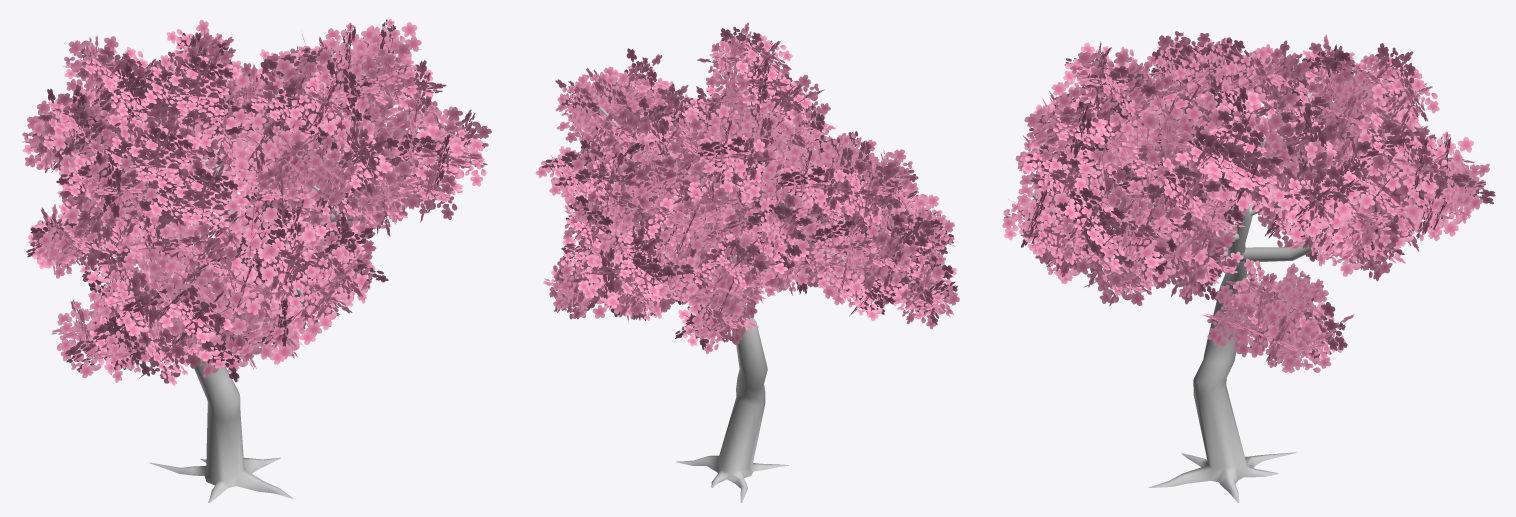
The model's file is TreeSakura.fbx.
3 views of the same model, side by side, from view 1: azimuth 30°, elevation 25°; view 2: azimuth 150°, elevation 25°; view 3: azimuth 270°, elevation 25° (orthographic). The views are drawn at different scales.
Parts seen in each view (by area): view 1: TreeSakura; view 2: TreeSakura; view 3: TreeSakura.
Boxes of the visible parts, x1,y1,x2,y2 form: TreeSakura: (21, 18, 491, 502); TreeSakura: (535, 22, 959, 502); TreeSakura: (1002, 31, 1495, 502).
Size of the model in its own units: 601 by 589 by 592.
